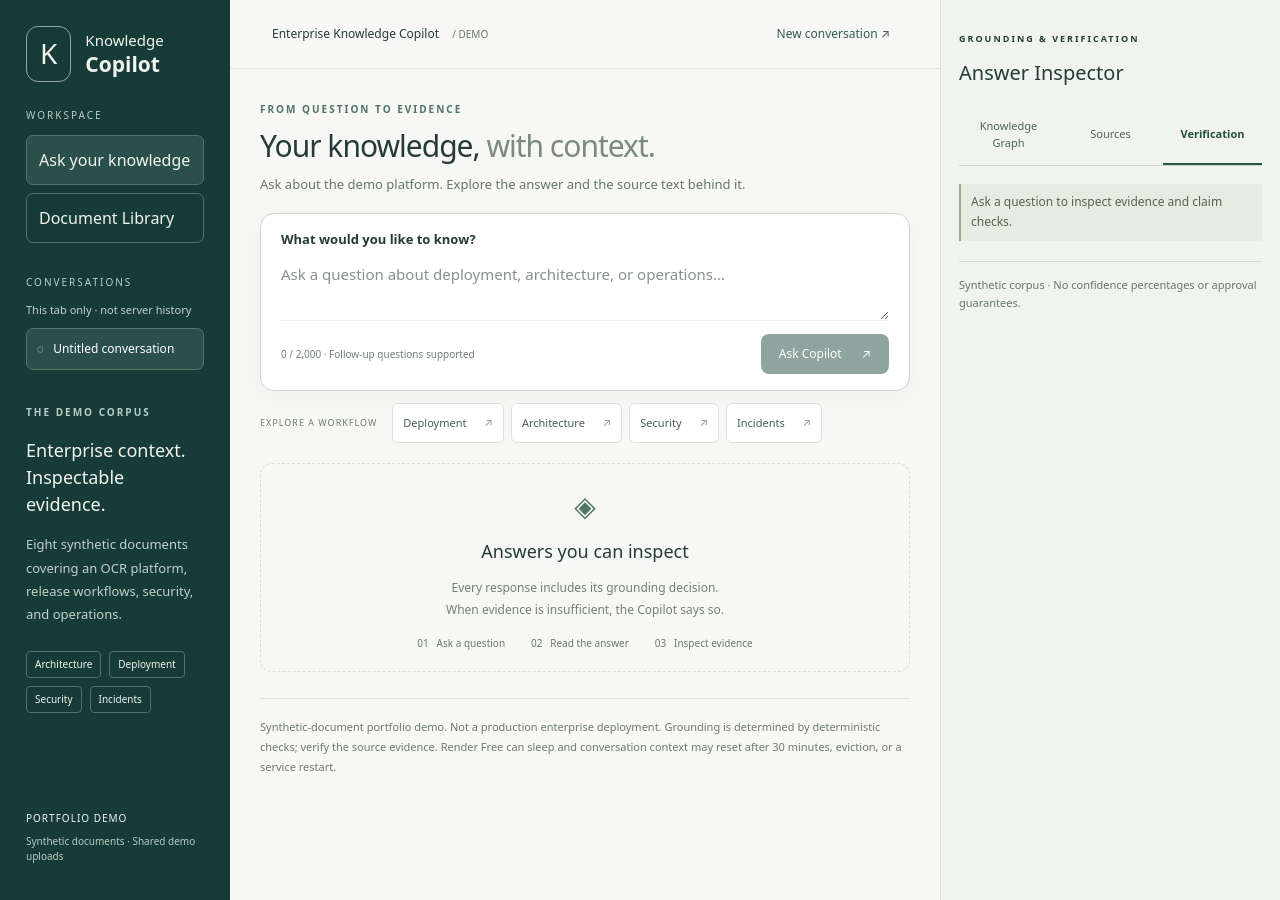
it: client-side conversations › new conversation uses a new request session without deleting prior history
Replace the text in the text box labelled "What would you like to know?" with "First question" at coordinates (585, 291), box [281, 262, 889, 320]
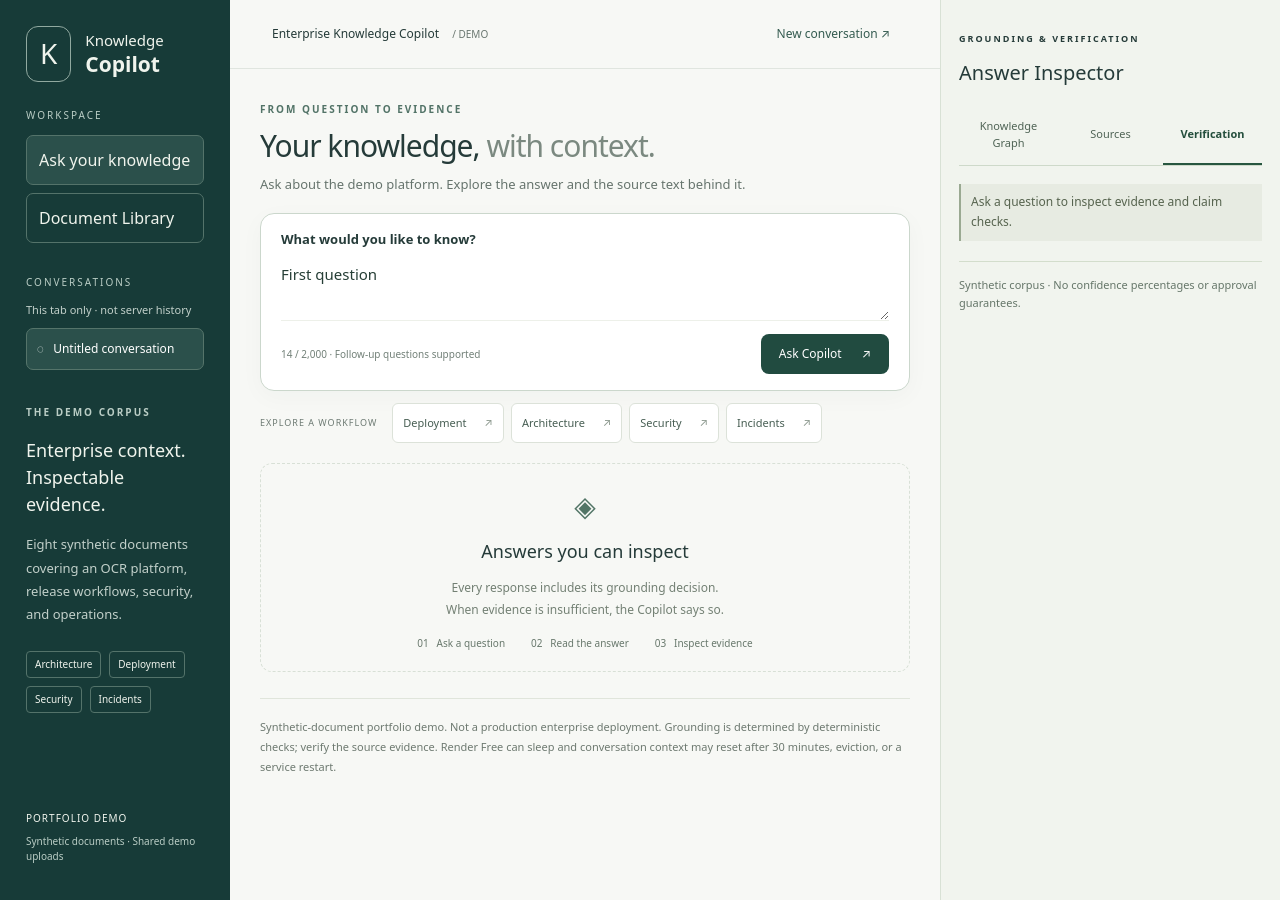
Click the button "Ask Copilot ↗" at coordinates (825, 354), box [761, 334, 889, 374]
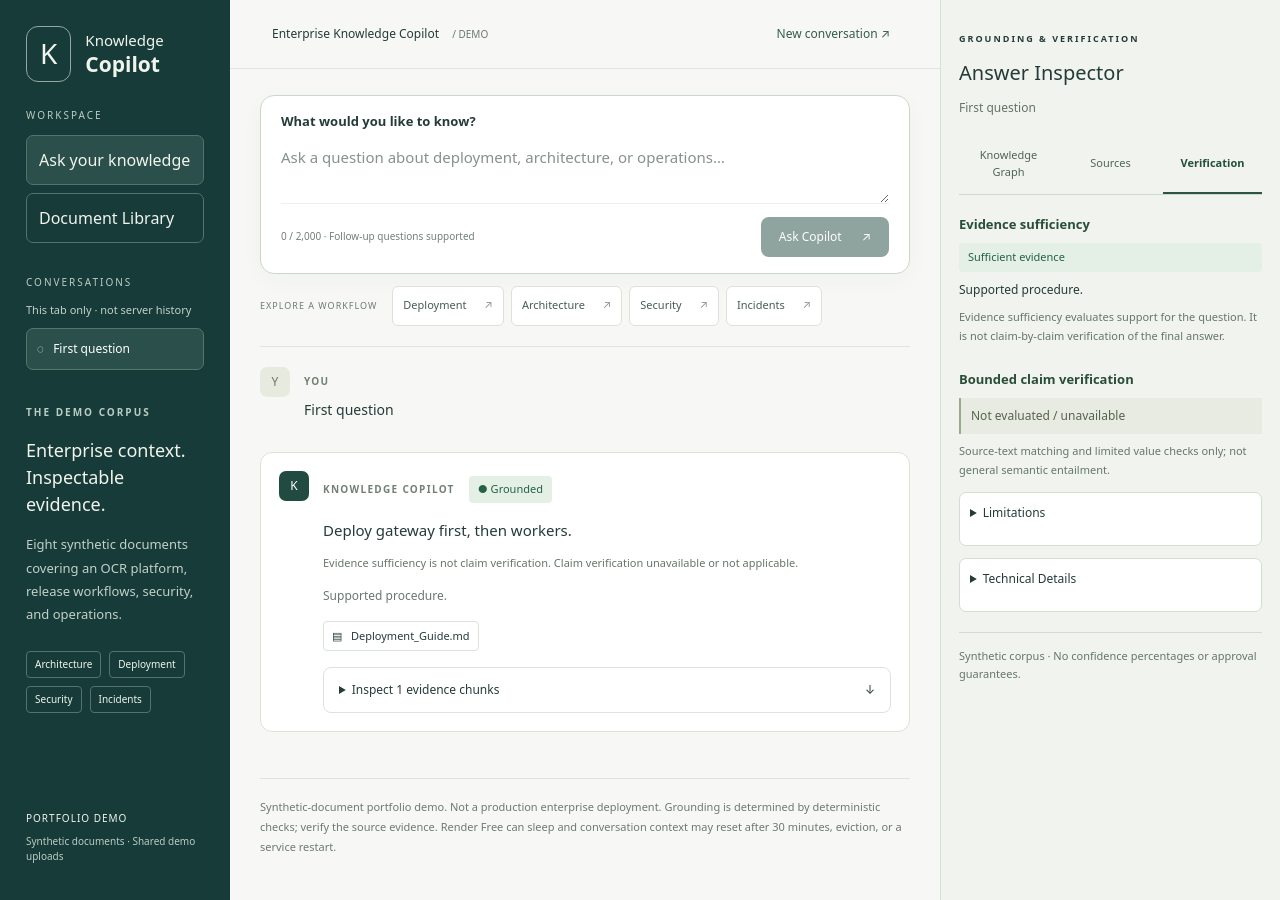
Expected: the text "● Grounded" is shown, [469, 476, 552, 503]
Click the button "New conversation ↗" at coordinates (833, 34), box [768, 14, 898, 54]
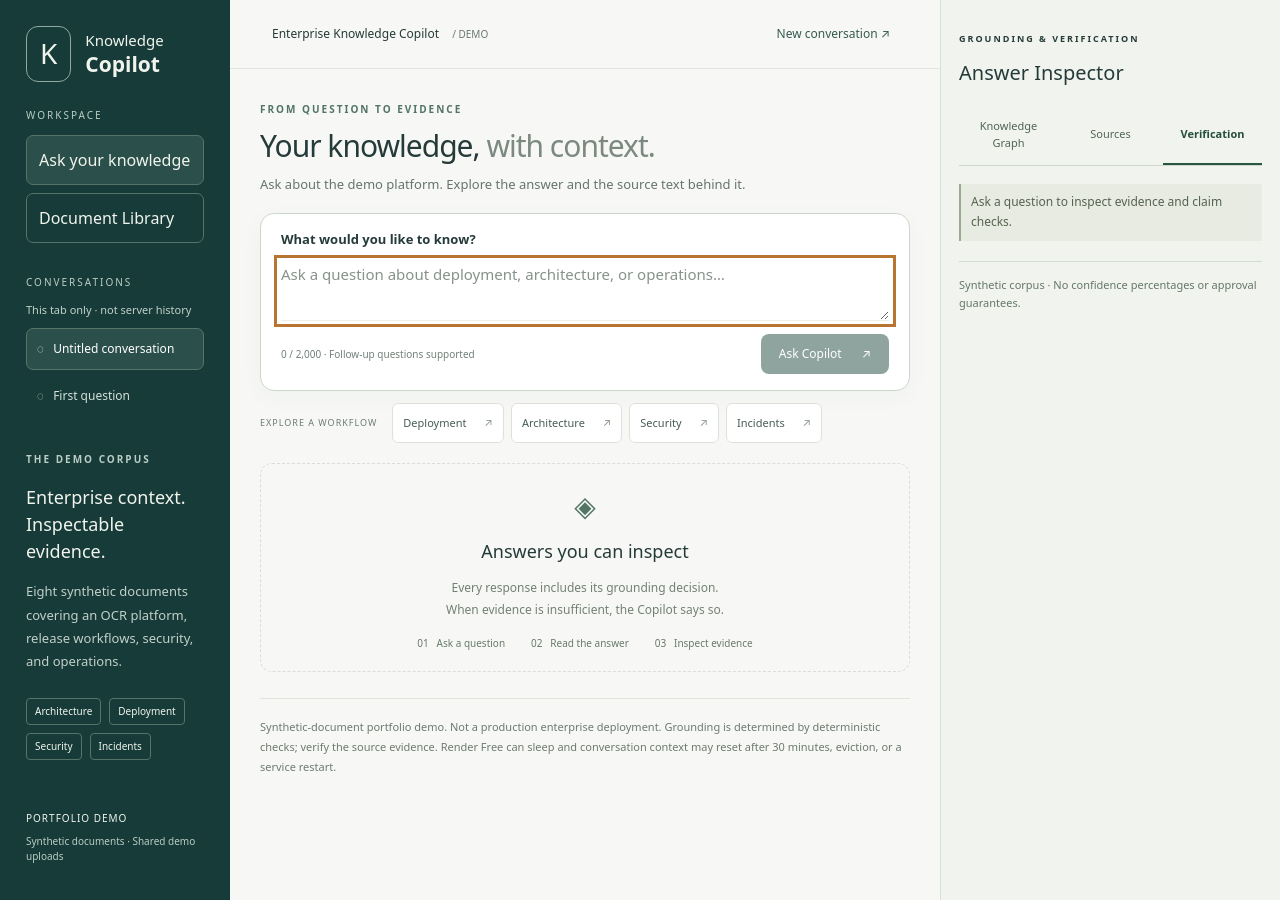
Expected: the text "● Grounded" is gone
Replace the text in the text box labelled "What would you like to know?" with "Second question" at coordinates (585, 291), box [281, 262, 889, 320]
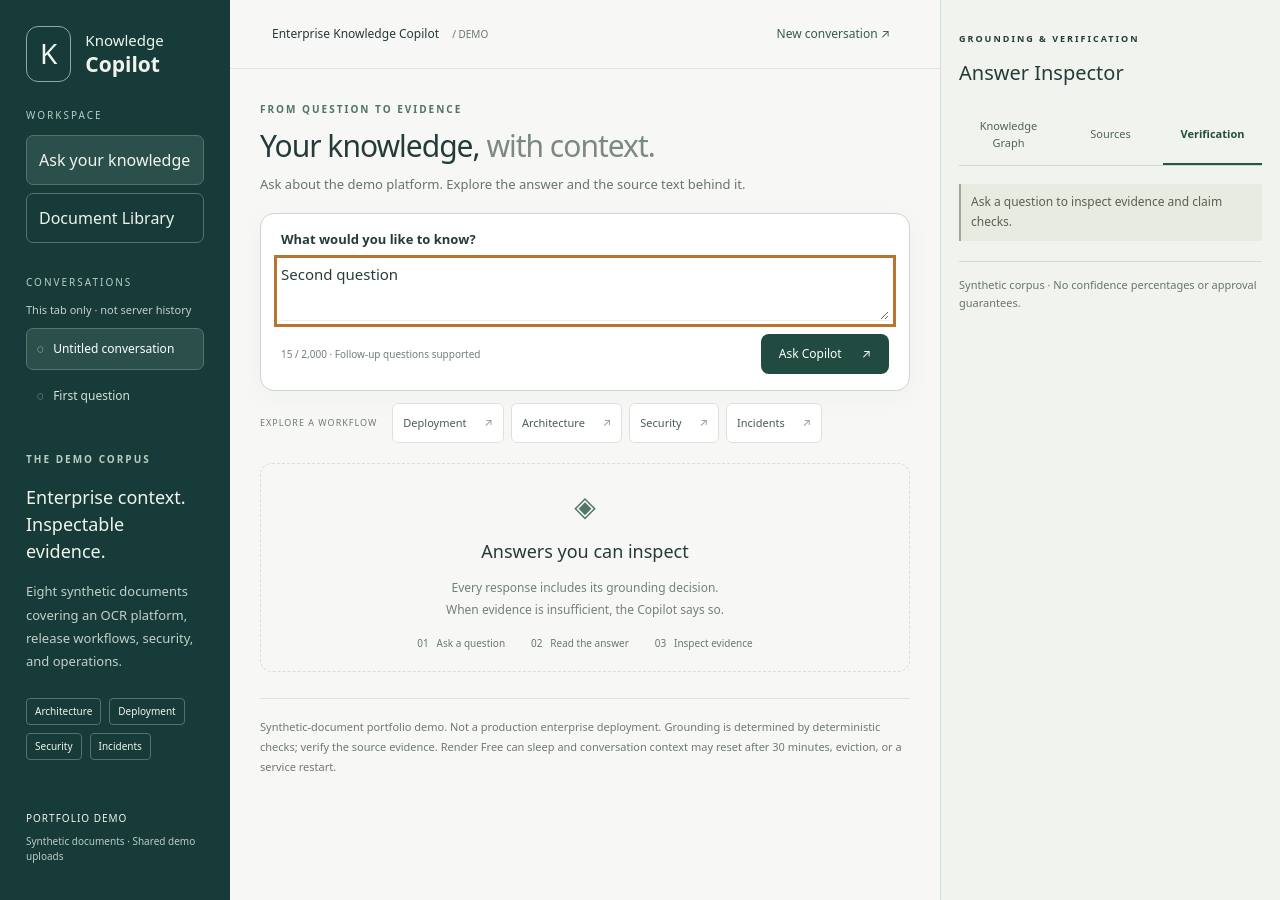
Click the button "Ask Copilot ↗" at coordinates (825, 354), box [761, 334, 889, 374]
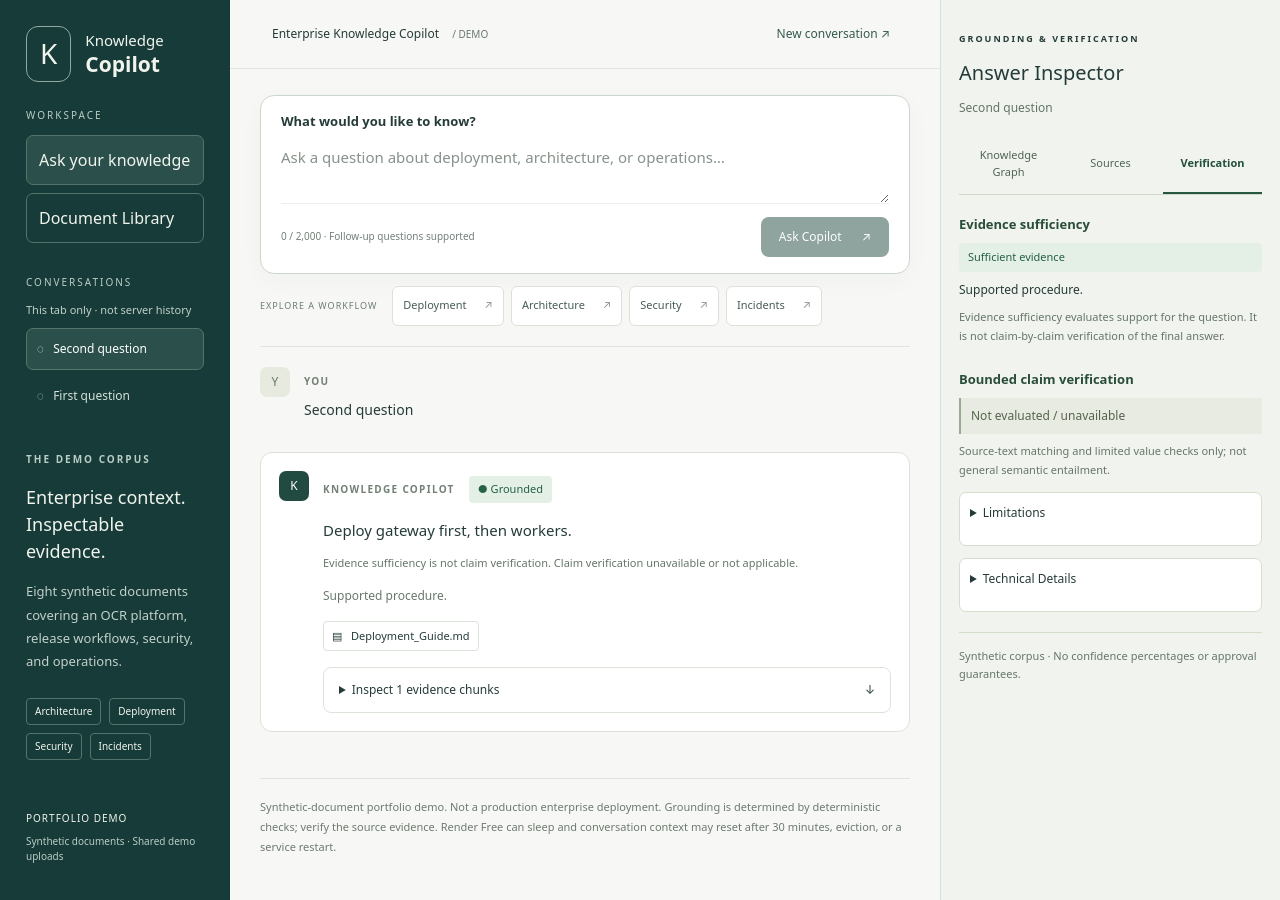
Expected: the text "● Grounded" is shown, [469, 476, 552, 503]
Click the button "◌ First question" at coordinates (115, 396), box [26, 375, 204, 417]
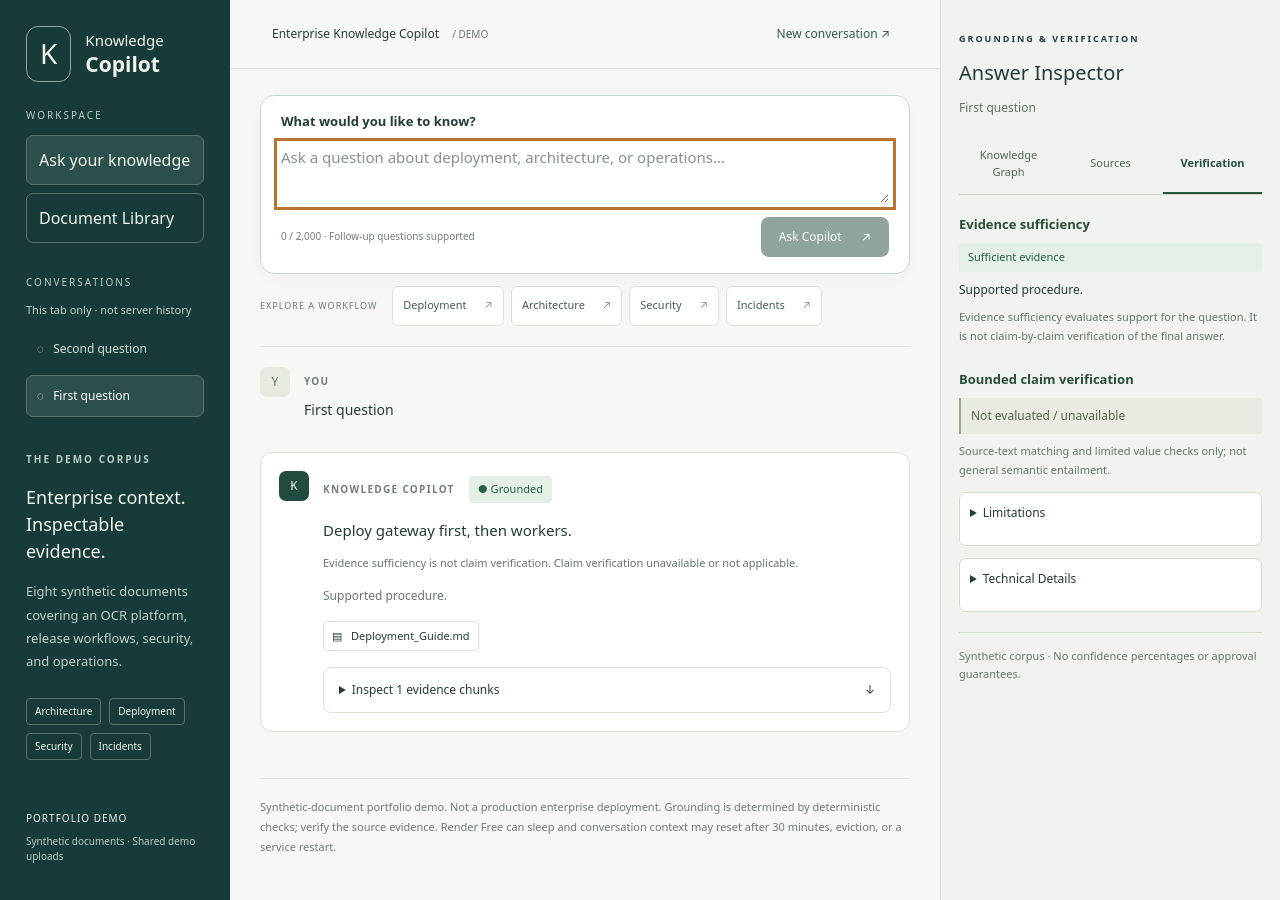
Expected: the text "First question" below "EXPLORE A WORKFLOW" is shown, [304, 400, 394, 418]
